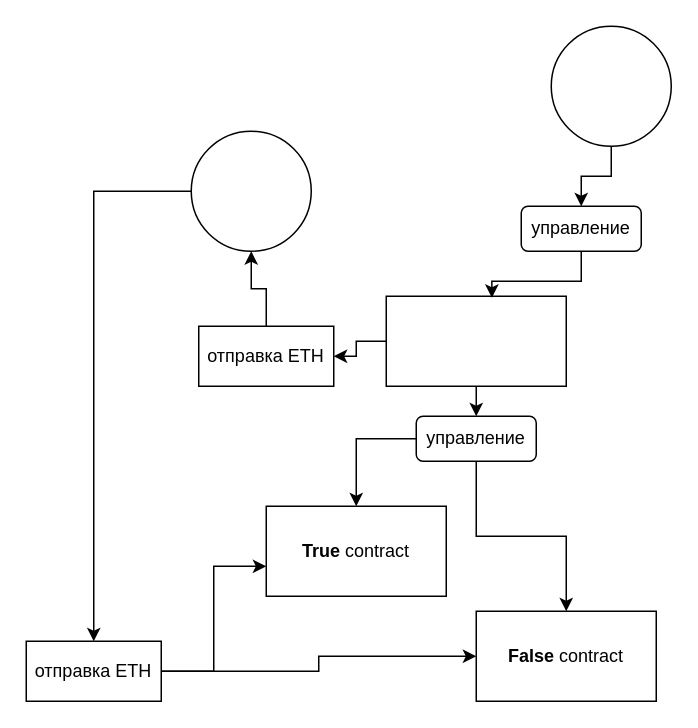
This 698x728 diagram has some shape labels left out. The centre of each missing label's shape, as x and y in pixels:
"GameBetContract" goes at point (475, 340).
"Зритель" goes at point (250, 190).
"Стример" goes at point (610, 85).
